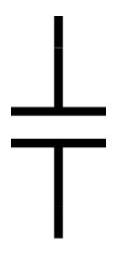Capacitor: (5, 73, 114, 185)
